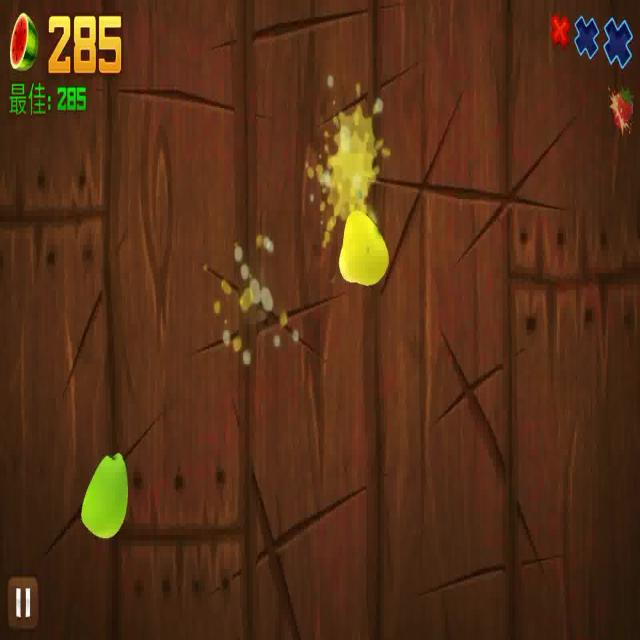fruit: (78, 452, 125, 540), (337, 207, 387, 284)
